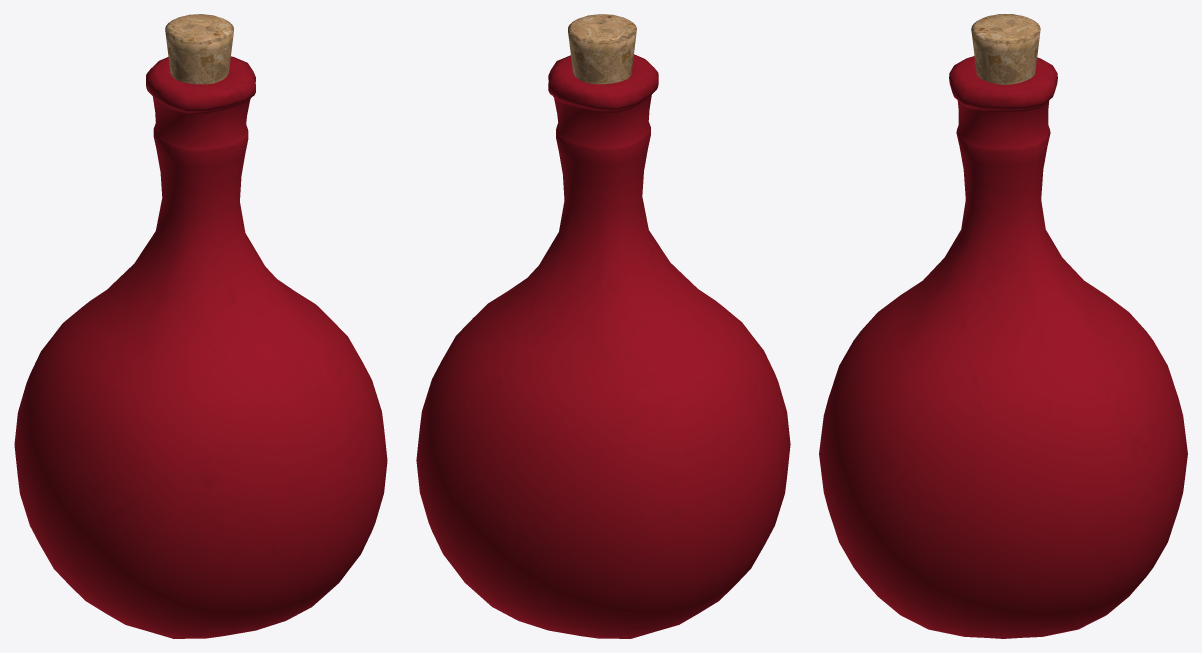
Rendered from SmallPotion.fbx.
3 views of the same model, side by side, from view 1: azimuth 30°, elevation 25°; view 2: azimuth 150°, elevation 25°; view 3: azimuth 270°, elevation 25° (orthographic).
Parts seen in each view (by area): view 1: SmallPotion; view 2: SmallPotion; view 3: SmallPotion.
Part boxes in pixels (bbox=[...]): SmallPotion: bbox=[14, 14, 387, 638]; SmallPotion: bbox=[416, 14, 790, 638]; SmallPotion: bbox=[819, 14, 1187, 638].
Size of the model in its own units: 12.93 by 22.62 by 12.93.
